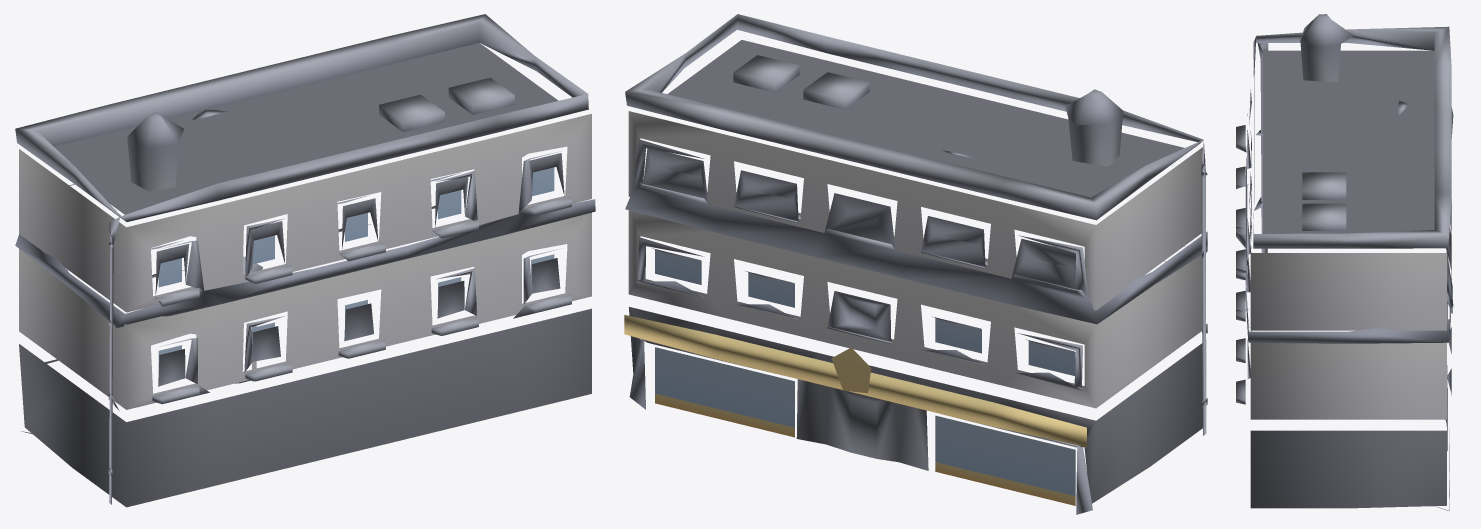
3 renders of one model, left to right at view 1: azimuth 30°, elevation 25°; view 2: azimuth 150°, elevation 25°; view 3: azimuth 270°, elevation 25°, orthographic. The views are drawn at different scales.
Bounding box in the file's own units: 16.46 × 11.76 × 7.54.
